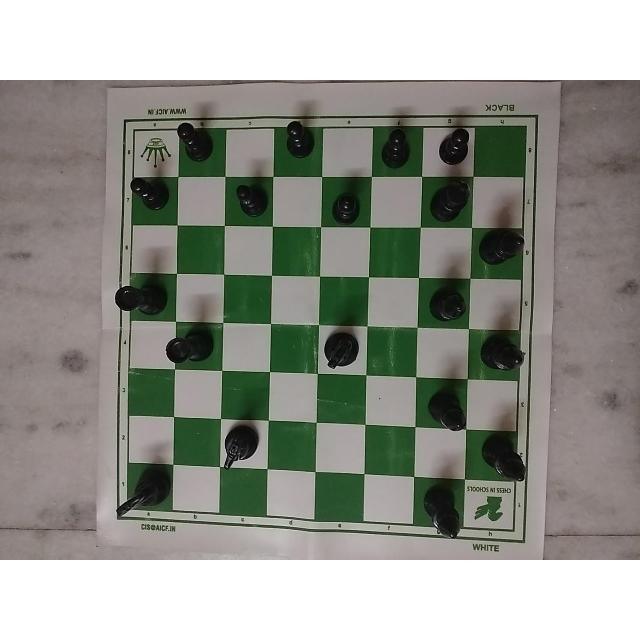black-bishop: (476, 434, 529, 489), (423, 488, 467, 546), (475, 337, 529, 384), (424, 174, 472, 224), (425, 278, 469, 330), (475, 233, 531, 269), (428, 387, 468, 435)
black-knight: (110, 470, 170, 521), (316, 324, 366, 375), (220, 426, 262, 472)
black-pawn: (377, 130, 426, 174), (173, 121, 213, 171), (127, 171, 175, 212), (440, 124, 475, 176), (230, 179, 274, 218), (280, 116, 312, 166), (322, 191, 365, 228)
black-rook: (108, 276, 170, 320), (160, 331, 215, 371)
